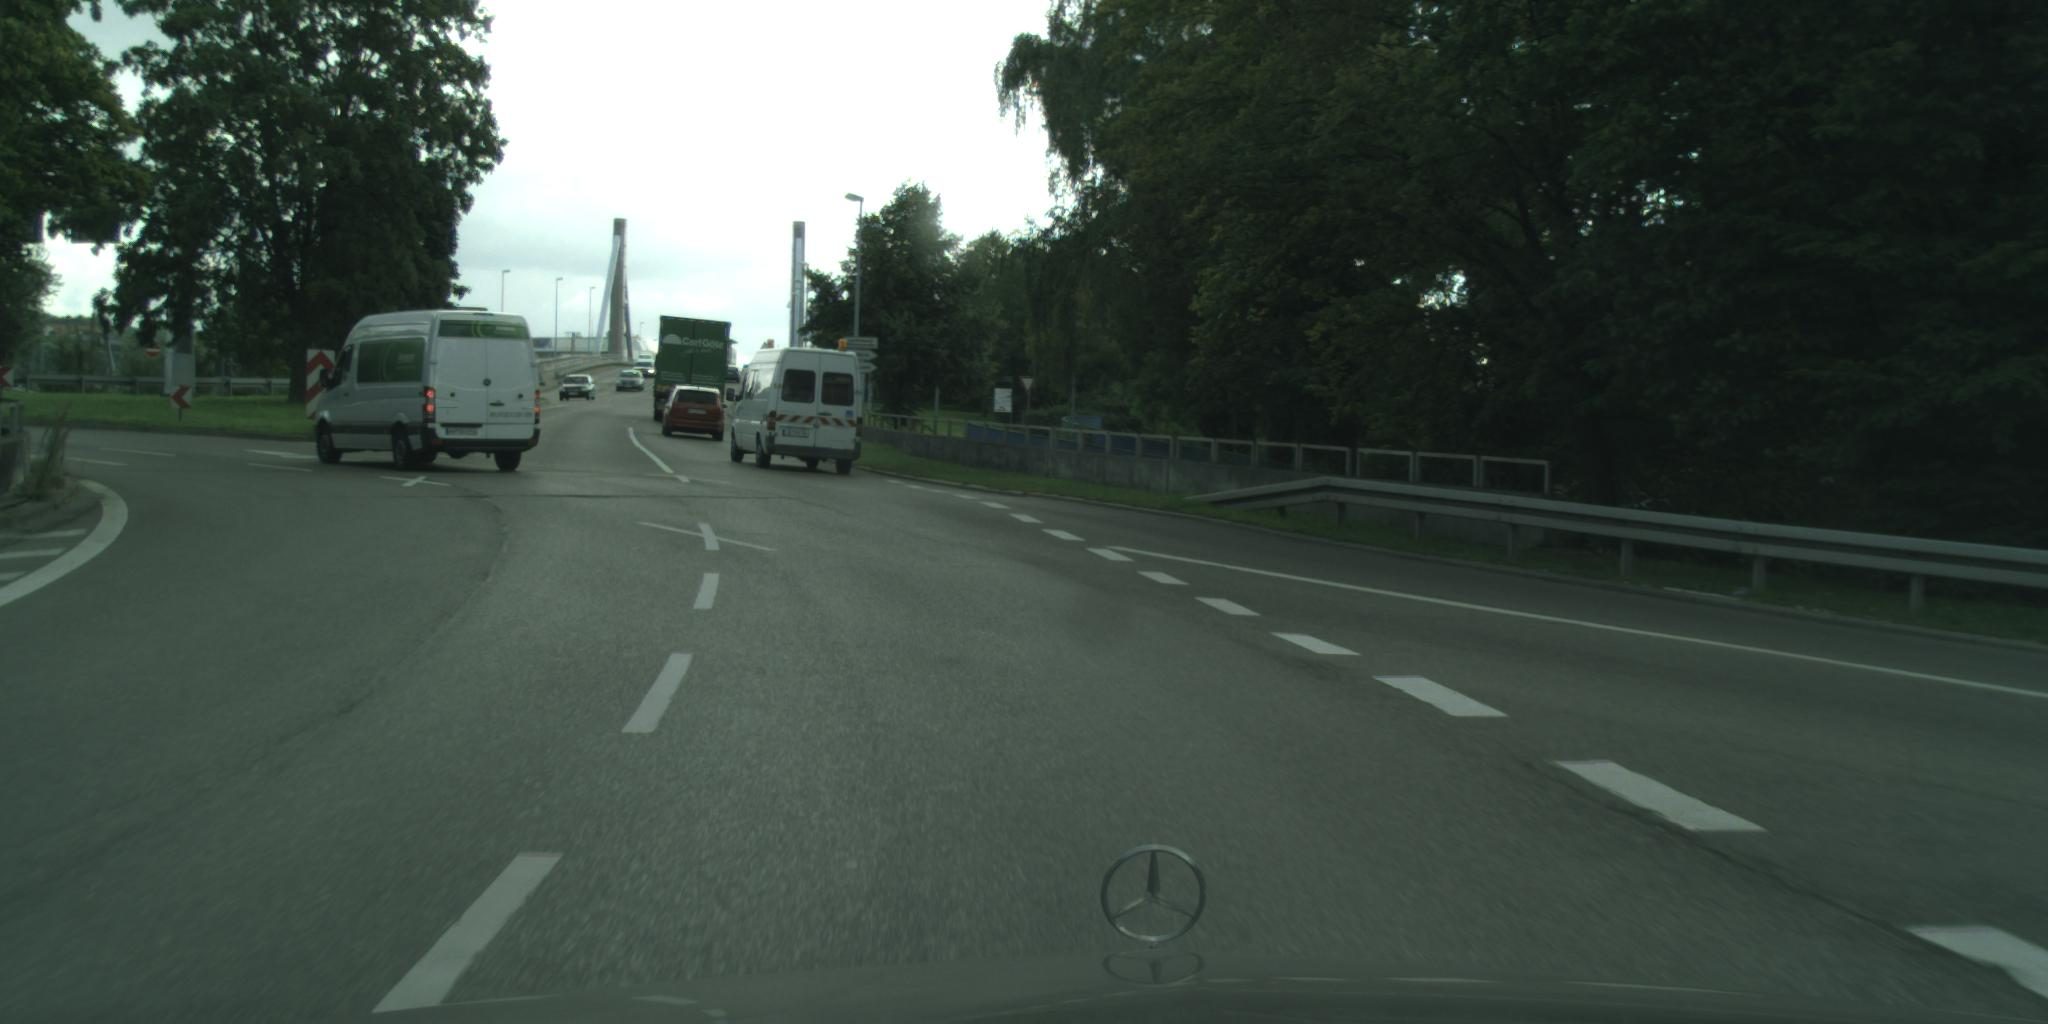car: (315, 310, 542, 473), (728, 340, 865, 477), (664, 387, 728, 443), (560, 376, 596, 404), (616, 370, 647, 394), (633, 362, 660, 379), (724, 368, 742, 385)
truck: (654, 317, 731, 423)
